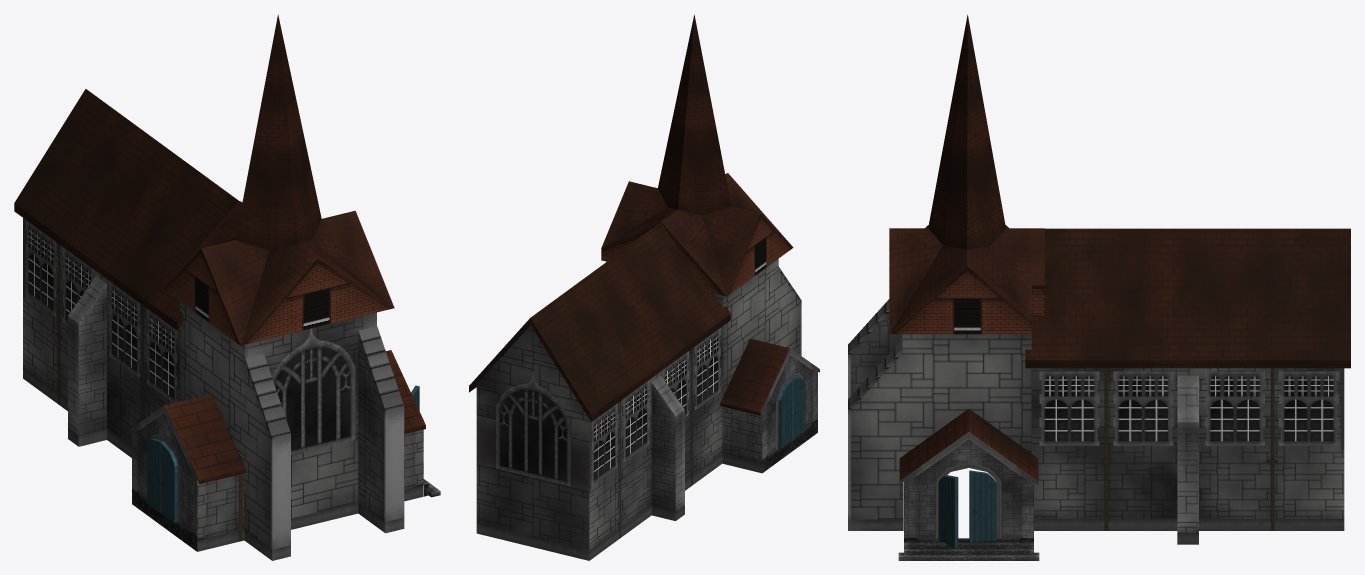
File: Inside texture 1.fbx
3 views of the same model, side by side, from view 1: azimuth 30°, elevation 25°; view 2: azimuth 150°, elevation 25°; view 3: azimuth 270°, elevation 25° (orthographic). The views are drawn at different scales.
Parts seen in each view (by area): view 1: Interior v2; view 2: Interior v2; view 3: Interior v2.
Boxes of the visible parts, box(x1,y1,x2,y2) form: Interior v2: box(14, 14, 440, 560); Interior v2: box(469, 14, 819, 560); Interior v2: box(848, 15, 1350, 560).
Bounding box in the file's own units: 26.75 × 49.47 × 46.49.
